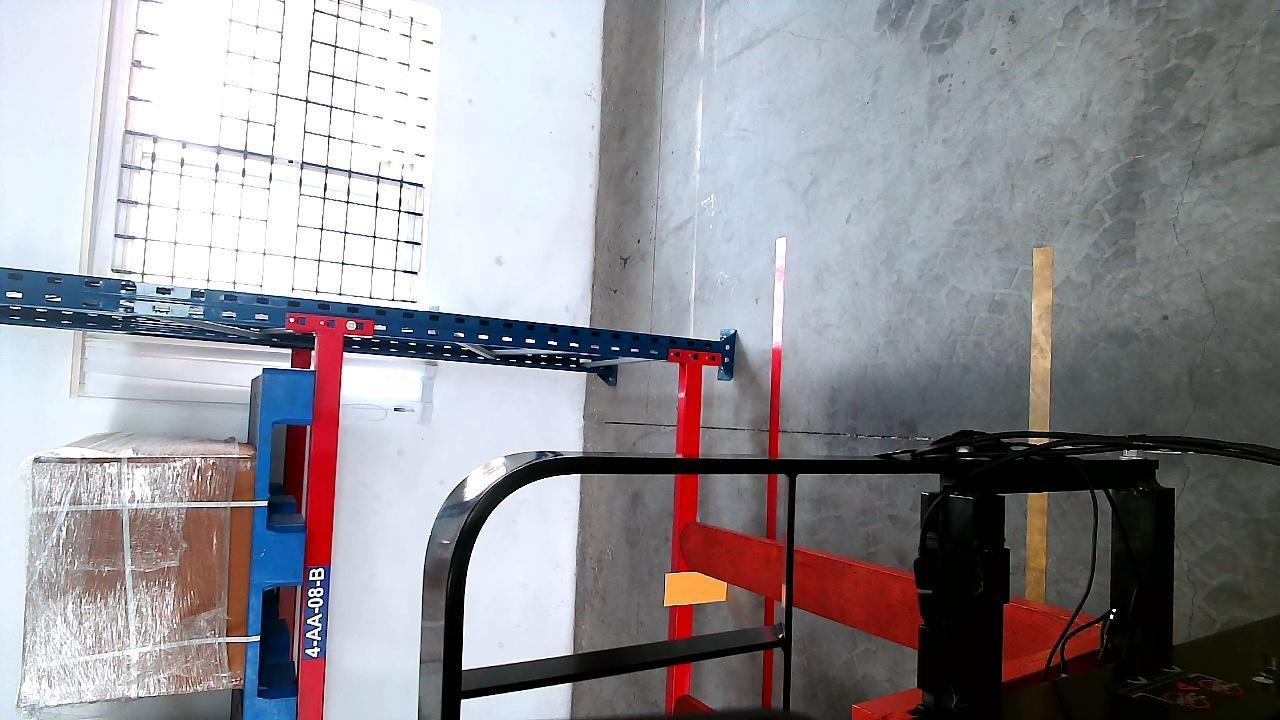h_rack: (299, 330, 347, 720), (676, 353, 704, 677)
orange_strip: (666, 569, 728, 605)
red_line: (759, 260, 788, 694)
small_pallet: (249, 367, 320, 720)
yellow_line: (1024, 245, 1052, 610)
